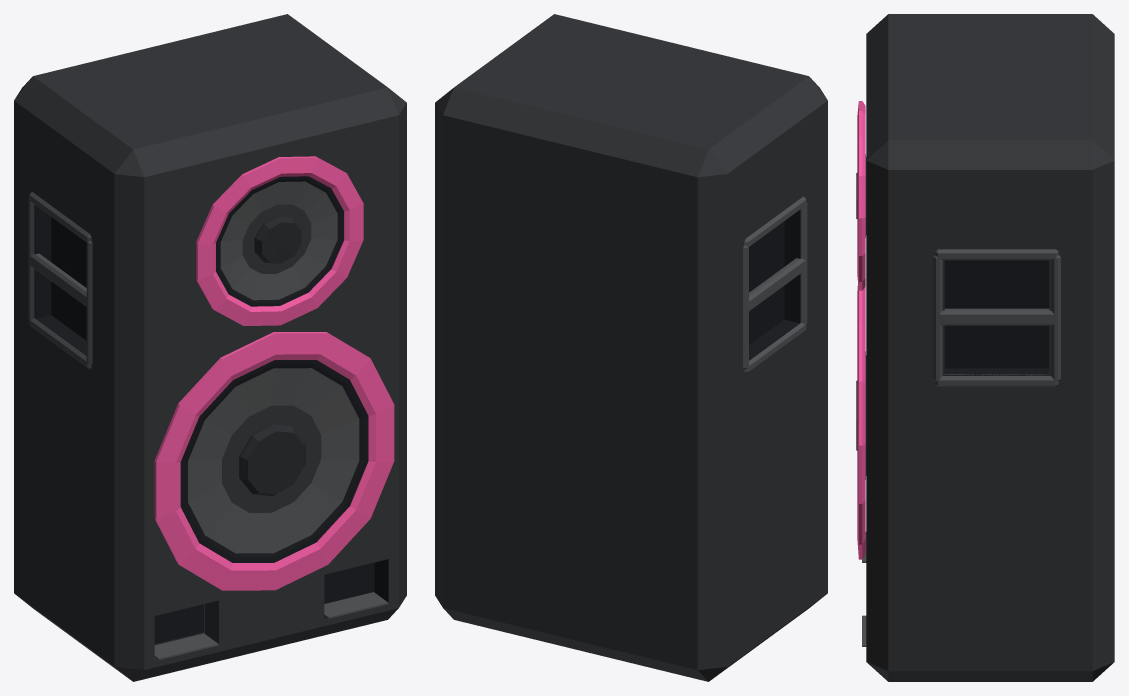
The model's file is speaker.glb.
3 renders of one model, left to right at view 1: azimuth 30°, elevation 25°; view 2: azimuth 150°, elevation 25°; view 3: azimuth 270°, elevation 25°, orthographic.
Parts seen in each view (by area): view 1: speaker; view 2: speaker; view 3: speaker.
Boxes of the visible parts, bbox=[...] form: speaker: bbox=[14, 14, 406, 681]; speaker: bbox=[435, 14, 827, 681]; speaker: bbox=[856, 14, 1114, 681].
Bounding box in the file's own units: 0.9958 × 1.7 × 0.7357.
